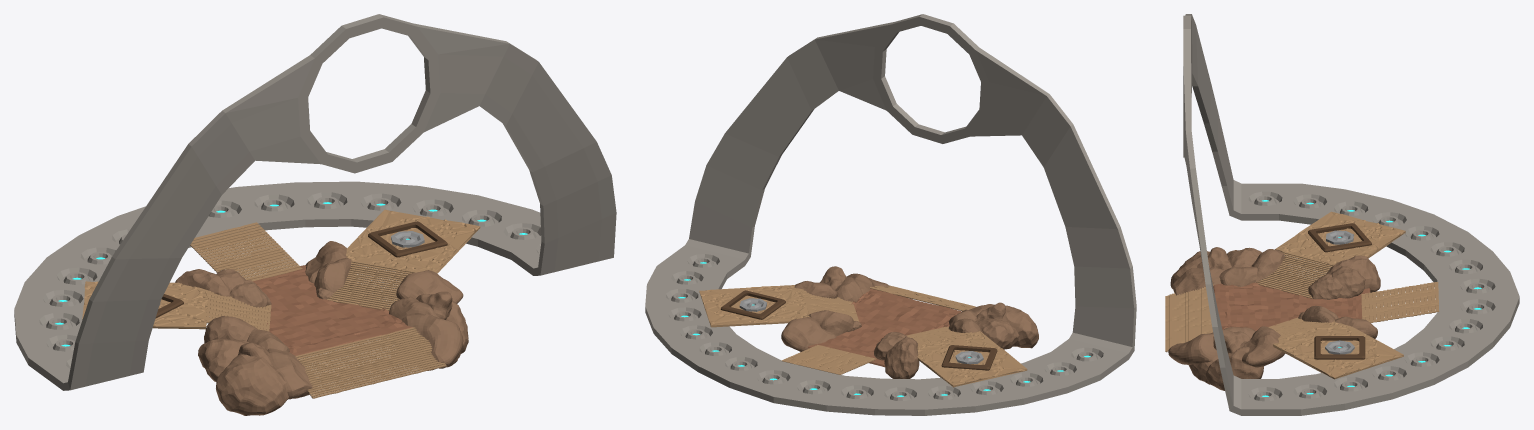
Rendered from boss alanı.fbx.
3 views of the same model, side by side, from view 1: azimuth 30°, elevation 25°; view 2: azimuth 150°, elevation 25°; view 3: azimuth 270°, elevation 25° (orthographic). The views are drawn at different scales.
Visible parts, largest first — view 1: Retopo_Pyramid.001; view 2: Retopo_Pyramid.001; view 3: Retopo_Pyramid.001.
Boxes of the visible parts, x1,y1,x2,y2 form: Retopo_Pyramid.001: (14,14,616,415); Retopo_Pyramid.001: (645,14,1136,415); Retopo_Pyramid.001: (1165,14,1519,415).
Size of the model in its own units: 16321 by 10892 by 10820.
